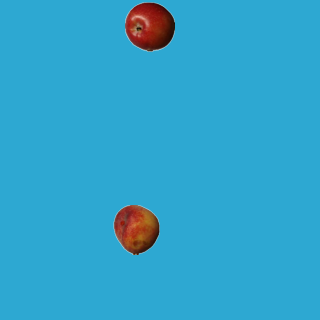Apple Braeburn: (124, 1, 174, 51)
Peach: (111, 204, 161, 254)
